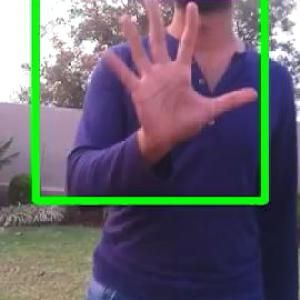follow_hand: (96, 0, 262, 148)
